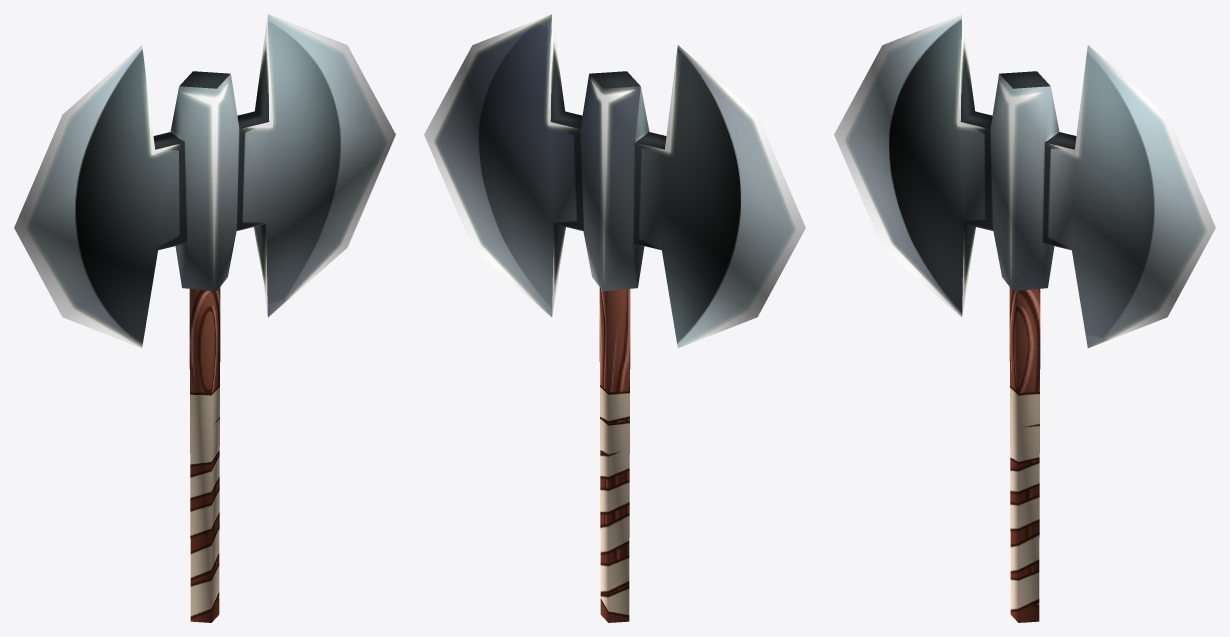
File: weapon_LargeAxe_solo.FBX
The picture shows the model from 3 angles, left to right: view 1: azimuth 30°, elevation 25°; view 2: azimuth 150°, elevation 25°; view 3: azimuth 330°, elevation 25°; orthographic projection.
Parts seen in each view (by area): view 1: LargeAxe_mesh; view 2: LargeAxe_mesh; view 3: LargeAxe_mesh.
Boxes of the visible parts, <box> form: LargeAxe_mesh: <box>14,14,395,622</box>; LargeAxe_mesh: <box>424,14,805,622</box>; LargeAxe_mesh: <box>834,14,1215,622</box>.
Size of the model in its own units: 75.77 by 112 by 8.23.
